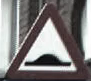Speed Breaker ahead: (4, 5, 82, 72)
